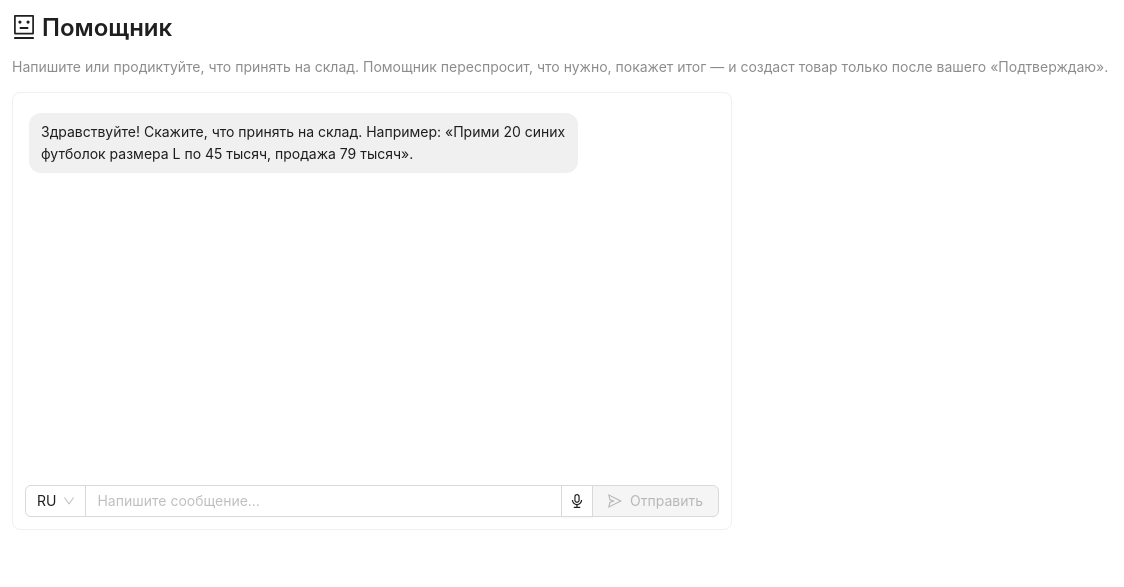
Test: AssistantPage › показывает кнопку «Подтверждаю» на шаге подтверждения
Type "Прими 20 футболок на основной склад" into the field named "Сообщение помощнику" at (324, 501), box x1=85 y1=485 x2=562 y2=517
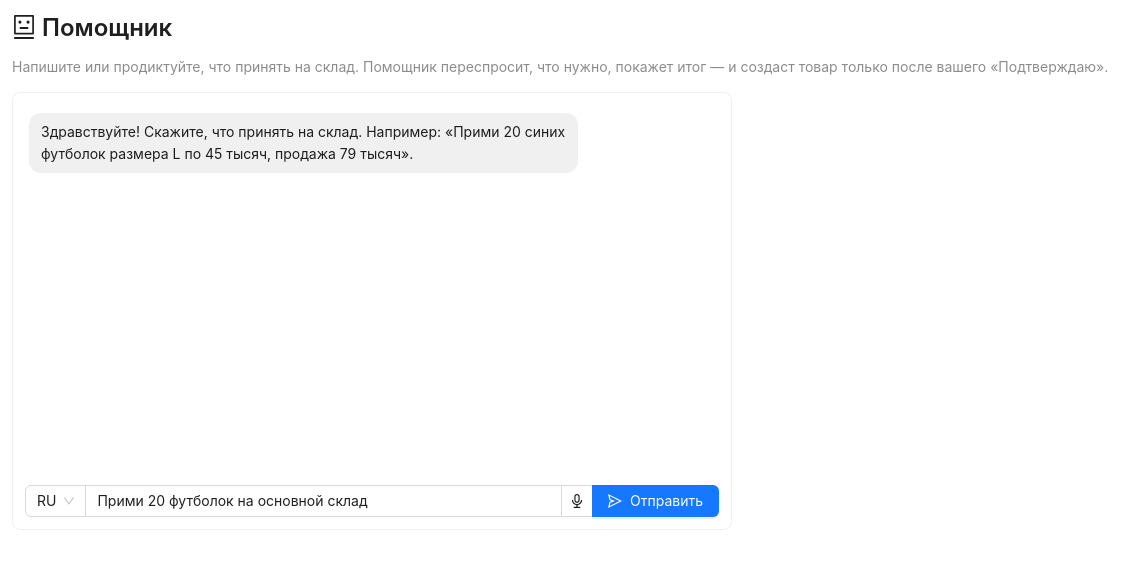
Click the button "Отправить" at (656, 501), box x1=592 y1=485 x2=719 y2=517
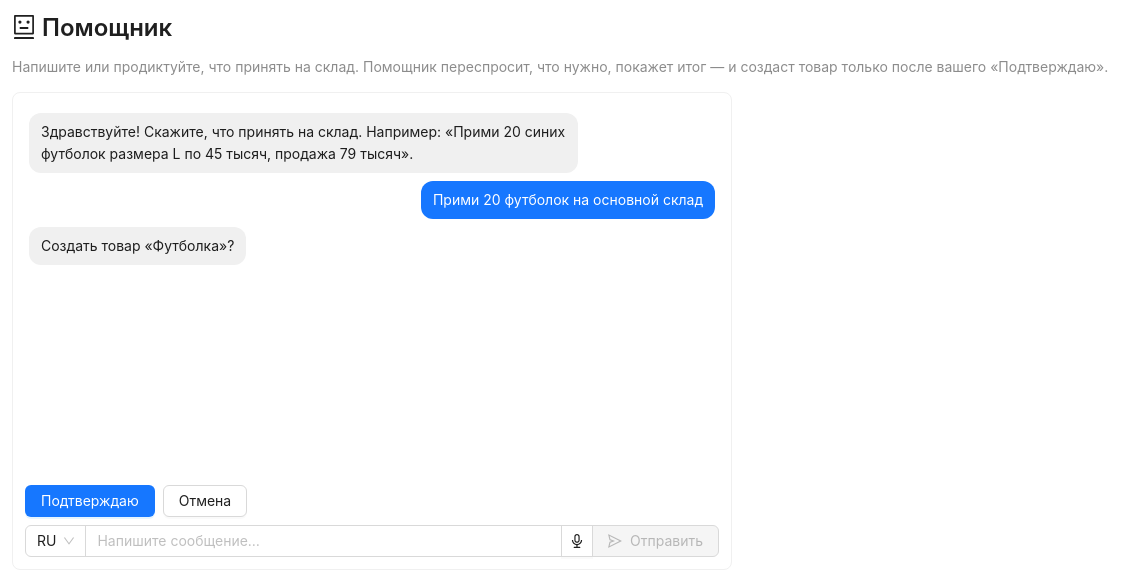
Now the text "Подтверждаю" is shown, box x1=41 y1=490 x2=139 y2=512
